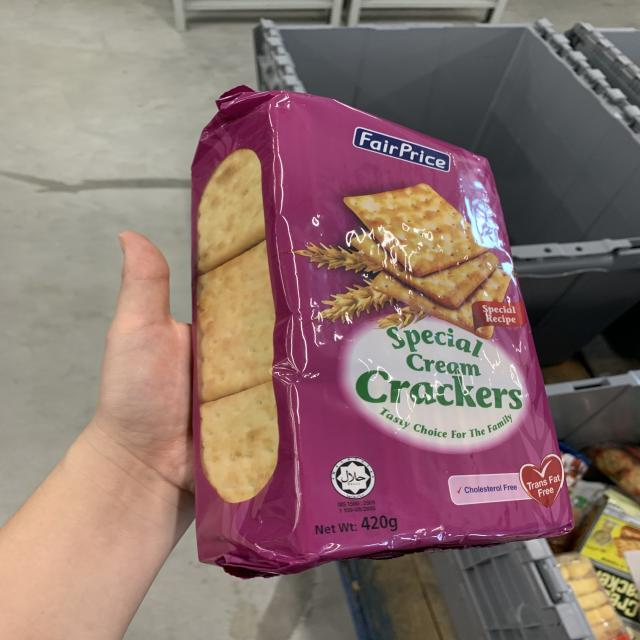object_name: (188, 94, 569, 548)
